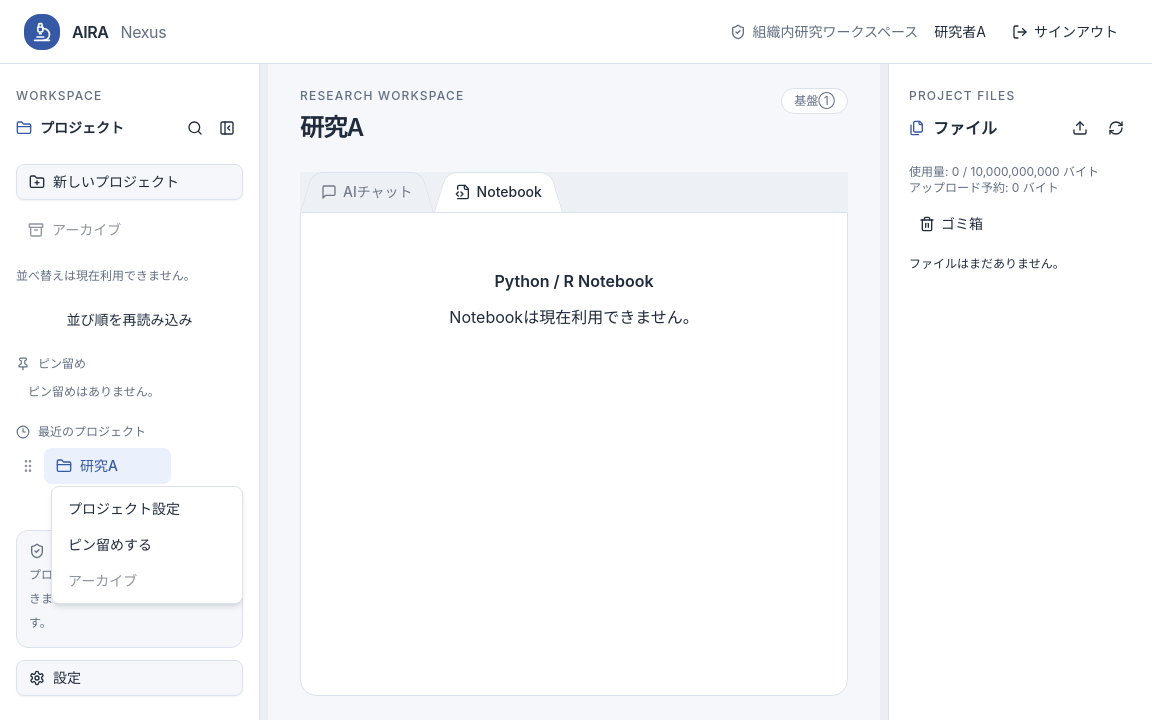
Test: research workbench foundation › TEST-UI-003 surfaces failures, disables future actions and rejects stale session results
Earlier steps of the test are not shown.
Later steps or results of the test are not shown.
Click the menu item "プロジェクト設定": (124, 508) [68,500,180,517]
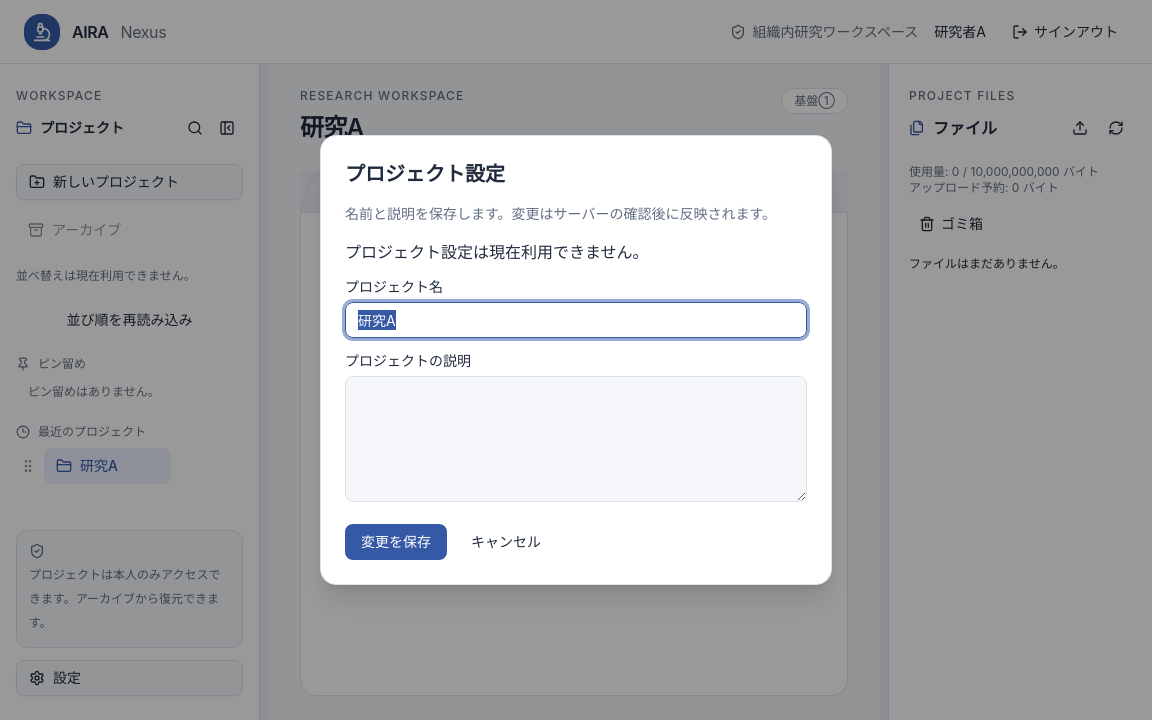
Expected: the button "変更を保存" is enabled
Click the button "変更を保存": (396, 542) [345,524,447,560]
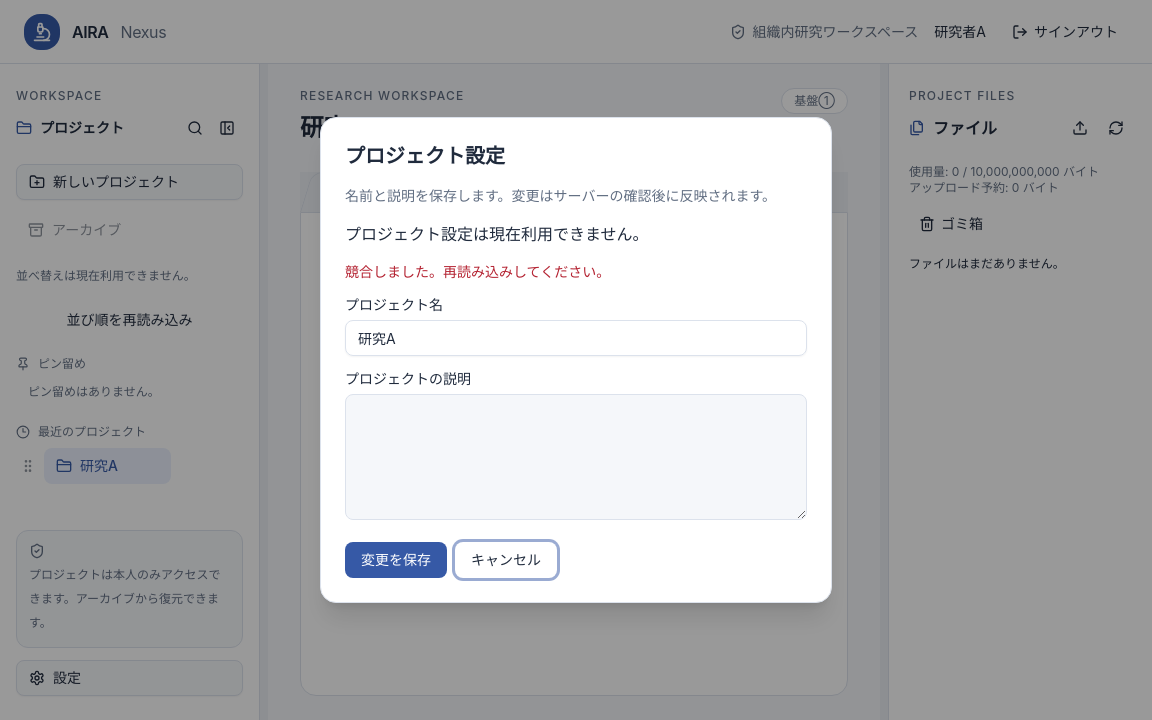
Expected: the message shows "競合", [345,263,610,280]
